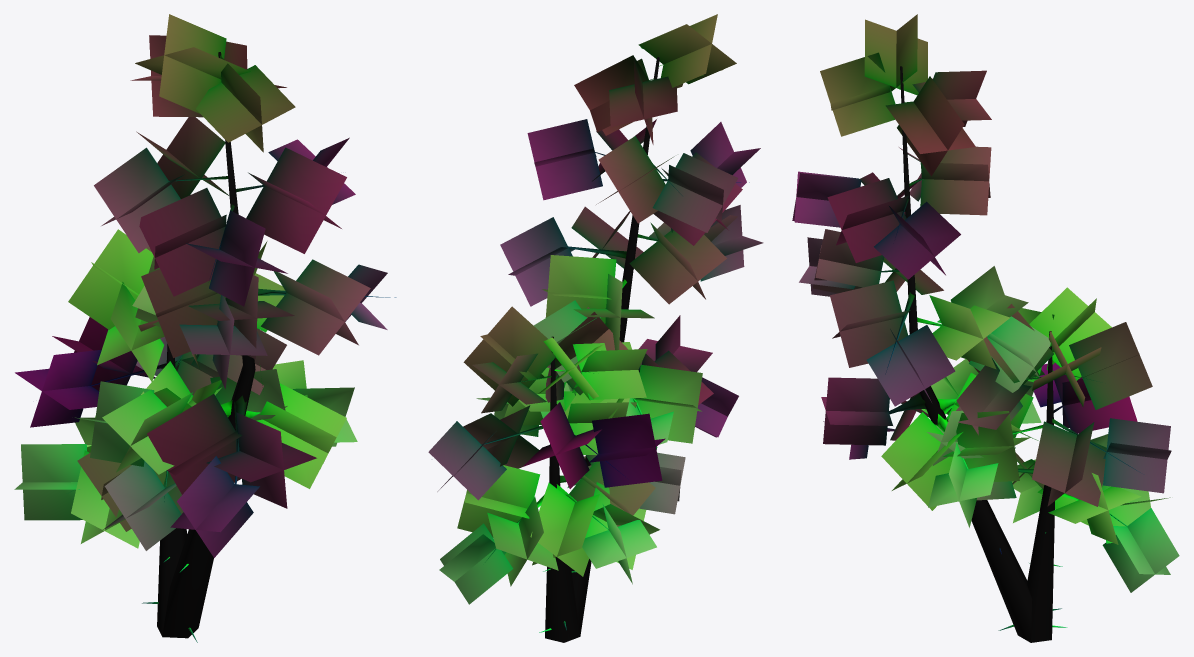
File: URP_P7_Tree_9_LOD_3.fbx
3 renders of one model, left to right at view 1: azimuth 30°, elevation 25°; view 2: azimuth 150°, elevation 25°; view 3: azimuth 270°, elevation 25°, orthographic. The views are drawn at different scales.
Visible parts, largest first — view 1: Tree_9_LOD_3; view 2: Tree_9_LOD_3; view 3: Tree_9_LOD_3.
Part boxes in pixels (x1,y1,x2,y2): Tree_9_LOD_3: (14,14,396,642); Tree_9_LOD_3: (428,14,763,642); Tree_9_LOD_3: (792,14,1179,642).
Size of the model in its own units: 246 by 578 by 344.
